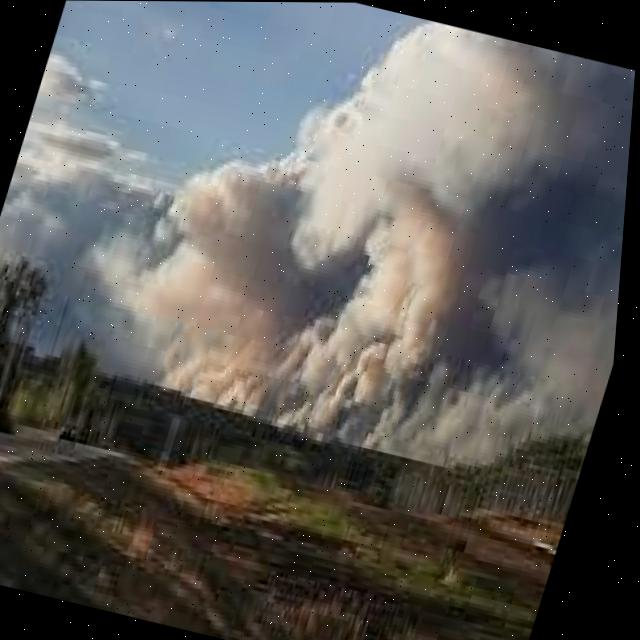smoke: (0, 22, 636, 466)
